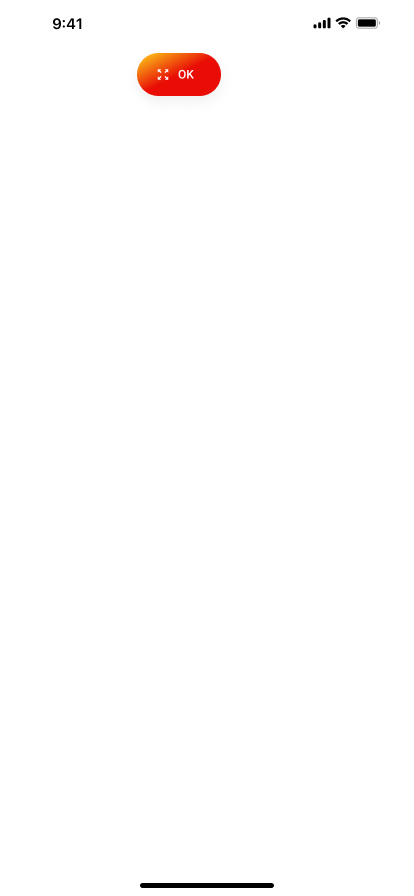Buttons: (122, 44, 236, 117)
Home Indicator: (0, 862, 414, 896)
Status Bar: (0, 0, 414, 44)
